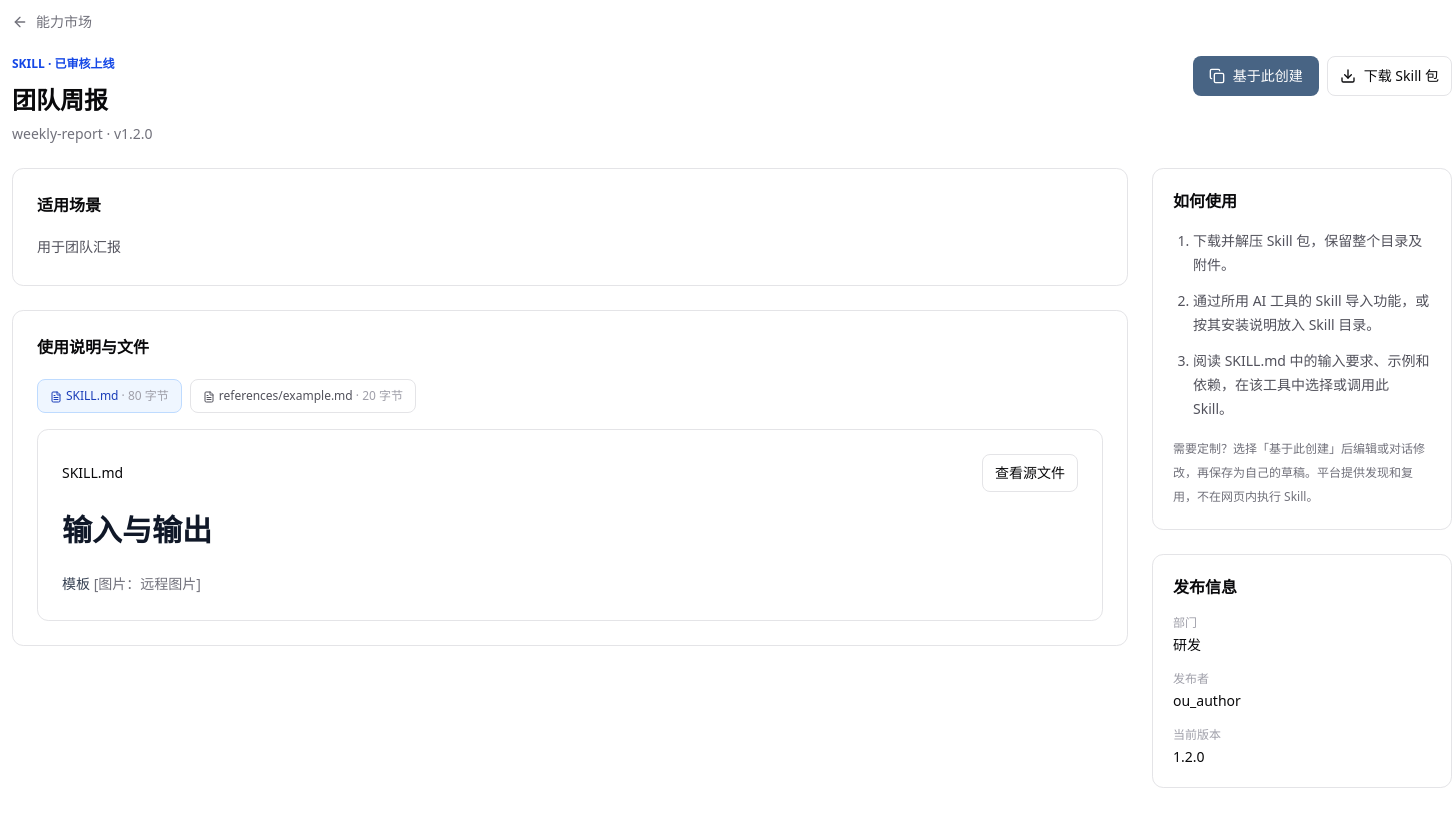
uses published details, pins the template and download, and previews attachments without remote images
Expected: the heading "团队周报" is shown, x1=12 y1=83 x2=108 y2=116
Expected: the heading "输入与输出" is shown, x1=62 y1=512 x2=212 y2=550
Click the button "references/example.md · 20 字节".
click(303, 396)  # box x1=190 y1=379 x2=416 y2=413
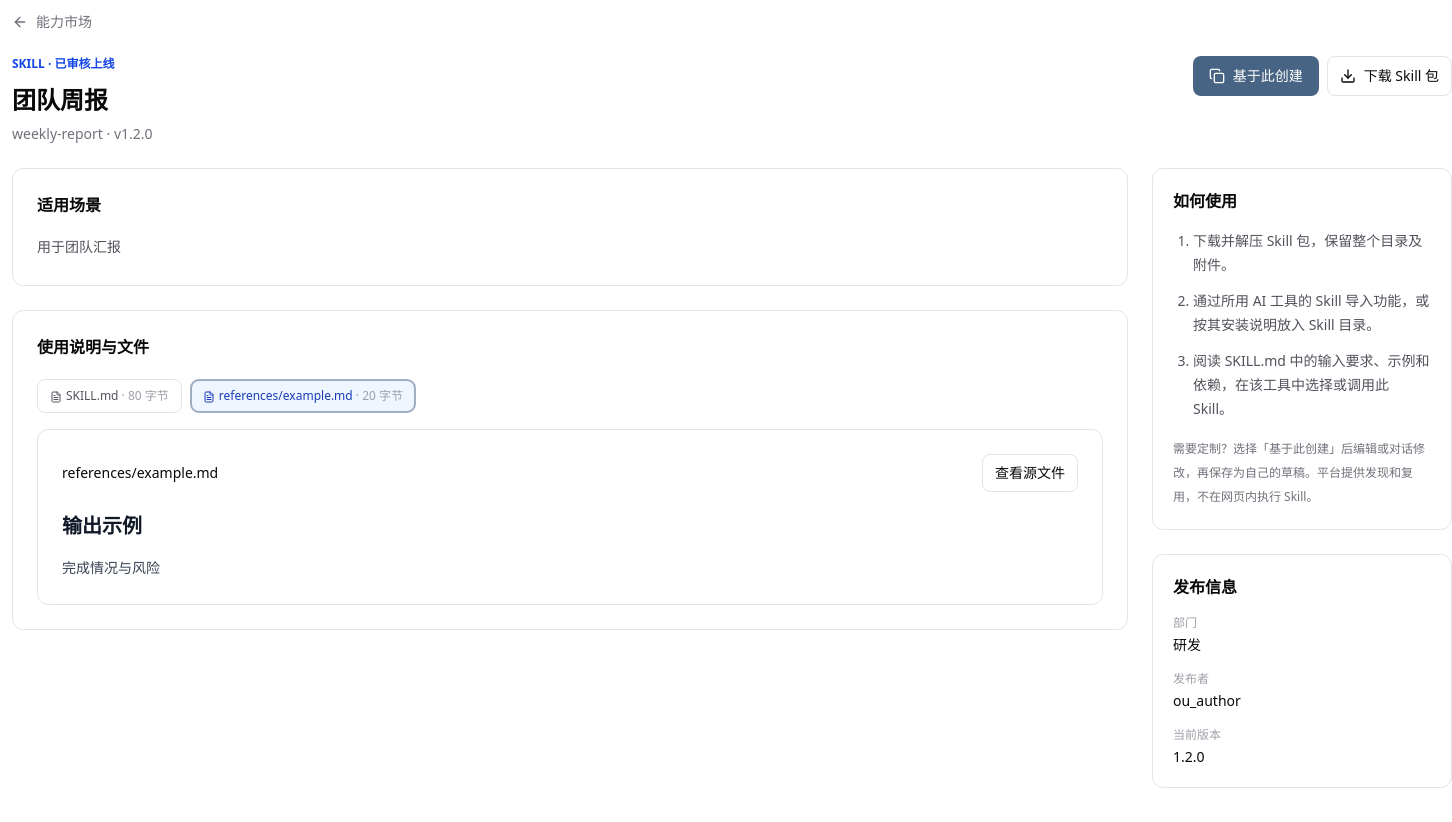
Result: the heading "输出示例" is shown at x1=62 y1=512 x2=142 y2=539
